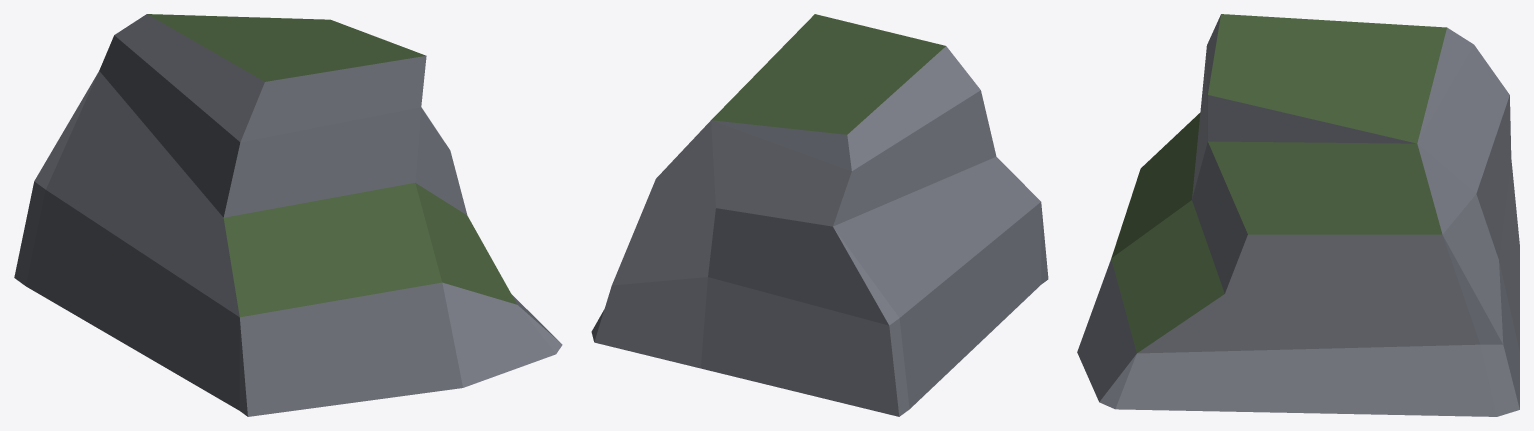
File: Rock_Moss_3.gltf
3 renders of one model, left to right at view 1: azimuth 30°, elevation 25°; view 2: azimuth 150°, elevation 25°; view 3: azimuth 270°, elevation 25°, orthographic. The views are drawn at different scales.
Visible parts, largest first — view 1: Rock_Moss_3; view 2: Rock_Moss_3; view 3: Rock_Moss_3.
Part boxes in pixels (x1,y1,x2,y2): Rock_Moss_3: (14, 14, 562, 416); Rock_Moss_3: (591, 14, 1048, 416); Rock_Moss_3: (1077, 14, 1519, 416).
Size of the model in its own units: 0.7384 by 0.5567 by 0.8026.
